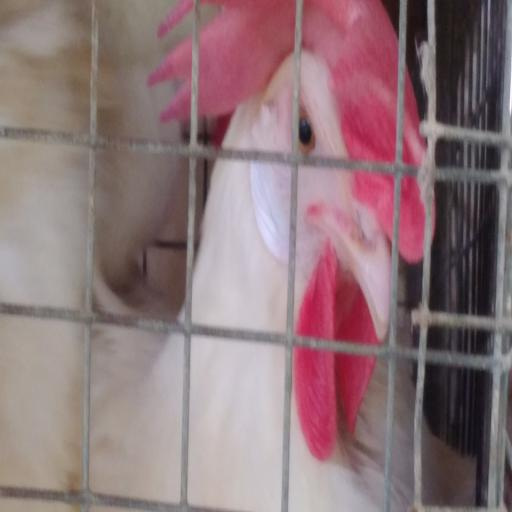healthy: (246, 0, 416, 315)
